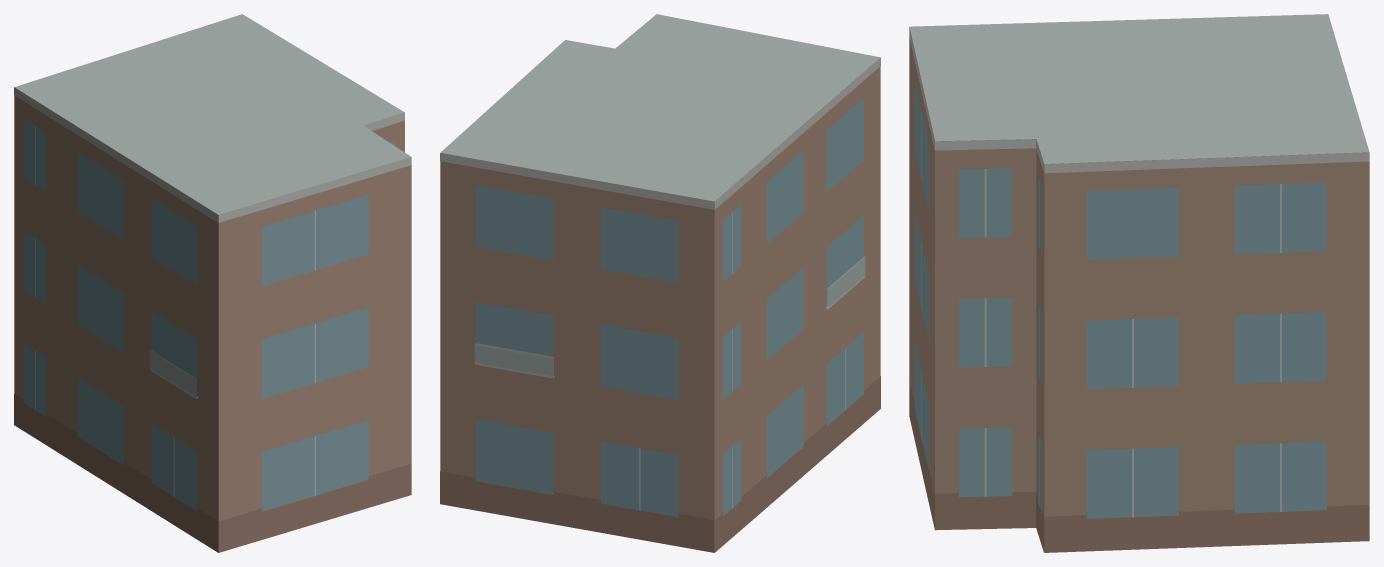
Rendered from survey-upis-32886517.glb.
3 renders of one model, left to right at view 1: azimuth 30°, elevation 25°; view 2: azimuth 150°, elevation 25°; view 3: azimuth 270°, elevation 25°, orthographic. The views are drawn at different scales.
Parts seen in each view (by area): view 1: survey-upis-32886517.tmp; view 2: survey-upis-32886517.tmp; view 3: survey-upis-32886517.tmp.
Boxes of the visible parts, x1=… form: survey-upis-32886517.tmp: x1=14, y1=14, x2=411, y2=552; survey-upis-32886517.tmp: x1=440, y1=14, x2=880, y2=552; survey-upis-32886517.tmp: x1=909, y1=14, x2=1369, y2=552.
Size of the model in its own units: 8.45 by 10.2 by 10.95.
